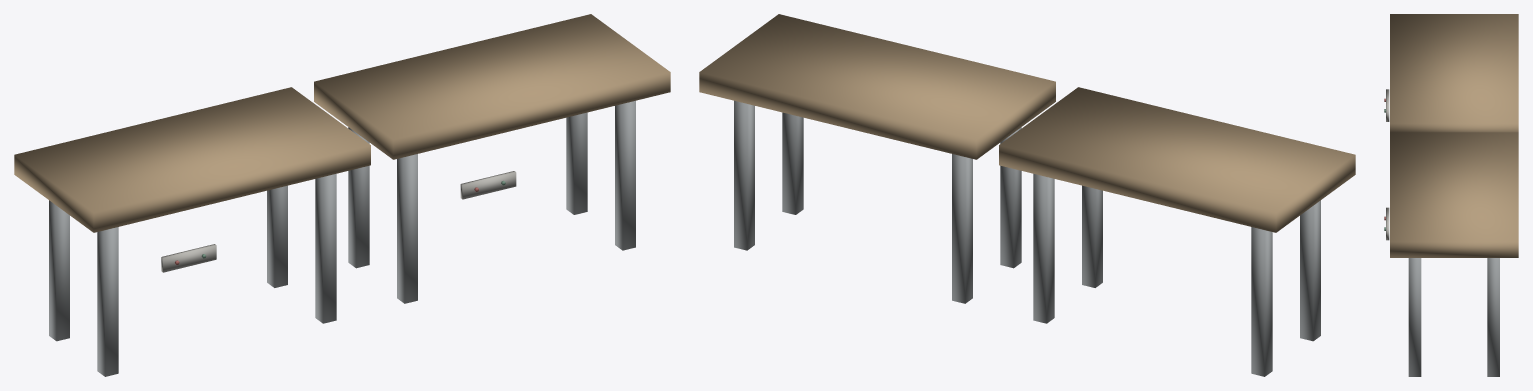
The model's file is workbench__cluster.glb.
The picture shows the model from 3 angles, left to right: view 1: azimuth 30°, elevation 25°; view 2: azimuth 150°, elevation 25°; view 3: azimuth 270°, elevation 25°; orthographic projection. The views are drawn at different scales.
Visible parts, largest first — view 1: world; view 2: world; view 3: world.
Boxes of the visible parts, x1,y1,x2,y2 form: world: [14, 14, 670, 376]; world: [699, 14, 1355, 376]; world: [1384, 14, 1518, 376].
Bounding box in the file's own units: 3.02 × 0.89 × 0.751.
